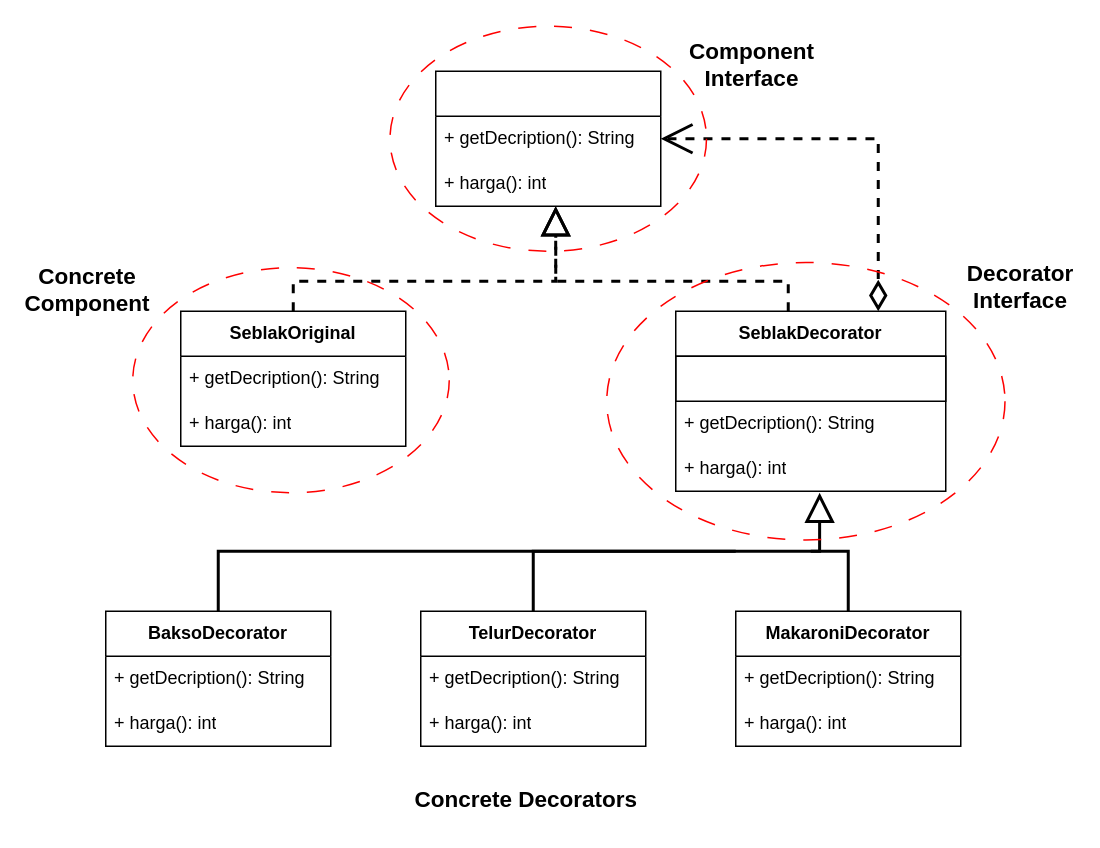
This 1100x848 diagram has some shape labels left out. The shapes that lost their labels are listed below. From the top down, each one's box as (x1, y1, x2, y2) in pixels, then its label:
(434, 70, 661, 206): Seblak
(674, 355, 946, 401): - decoratedSeblak(): Seblak
